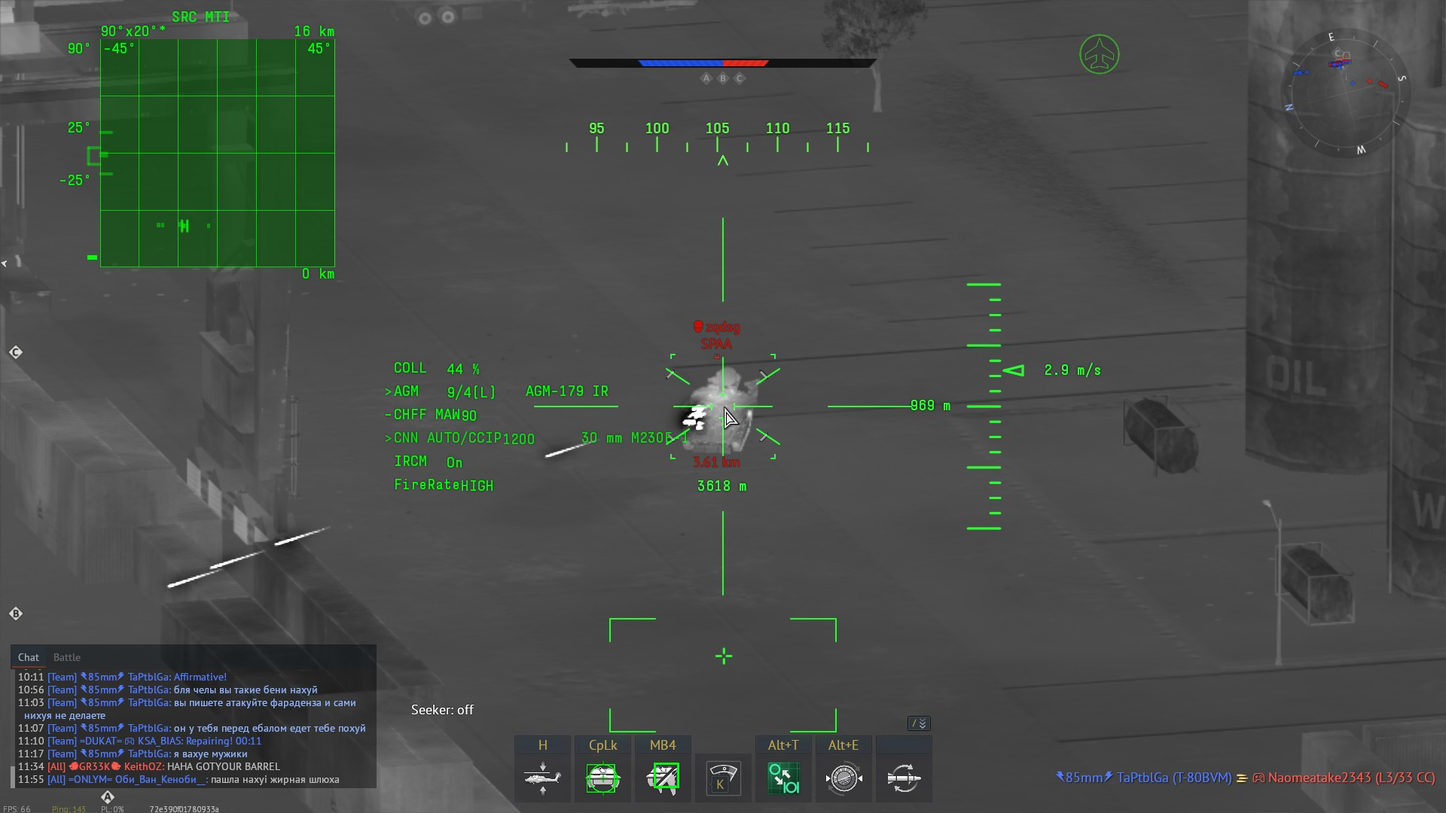spaa_zsu-23: (681, 366, 763, 453)
